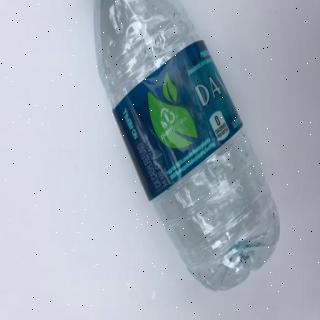Plastic-bottle: (91, 1, 282, 294)
